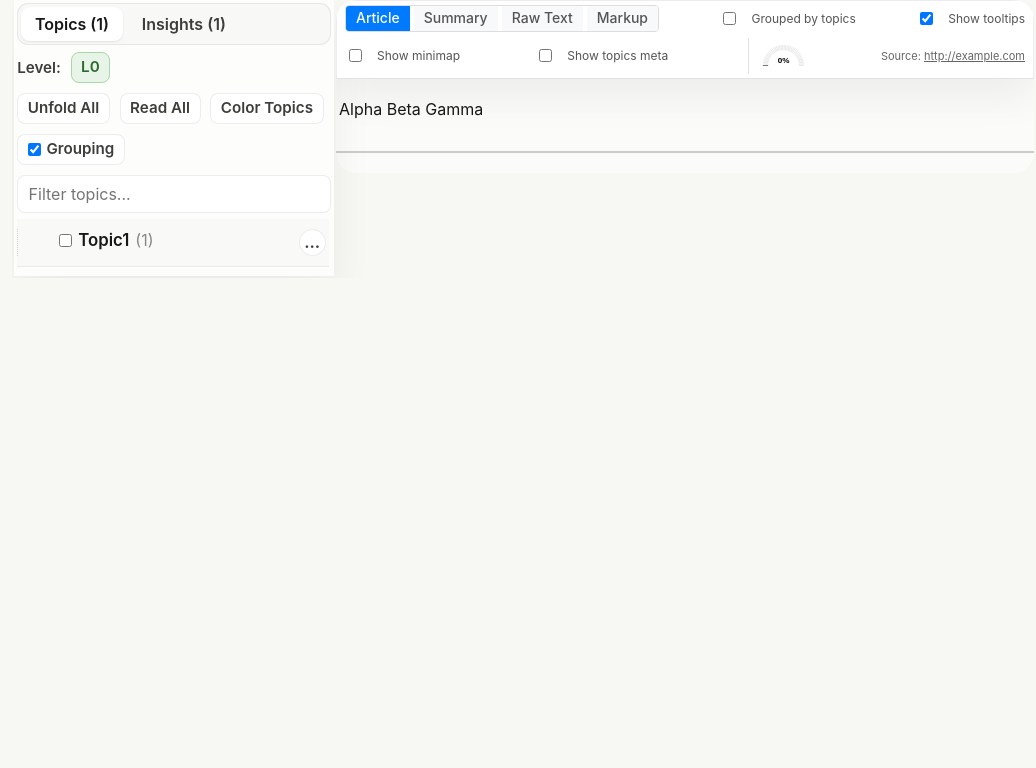
Test case: TextPage raw text navigation › renders and hides the minimap based on the article header toggle and grouped mode
Expected: the text "Source:" is shown, left=881, top=49, right=921, bottom=63
Click the checkbox labelled "Show minimap" at [356, 56], box left=349, top=49, right=362, bottom=62
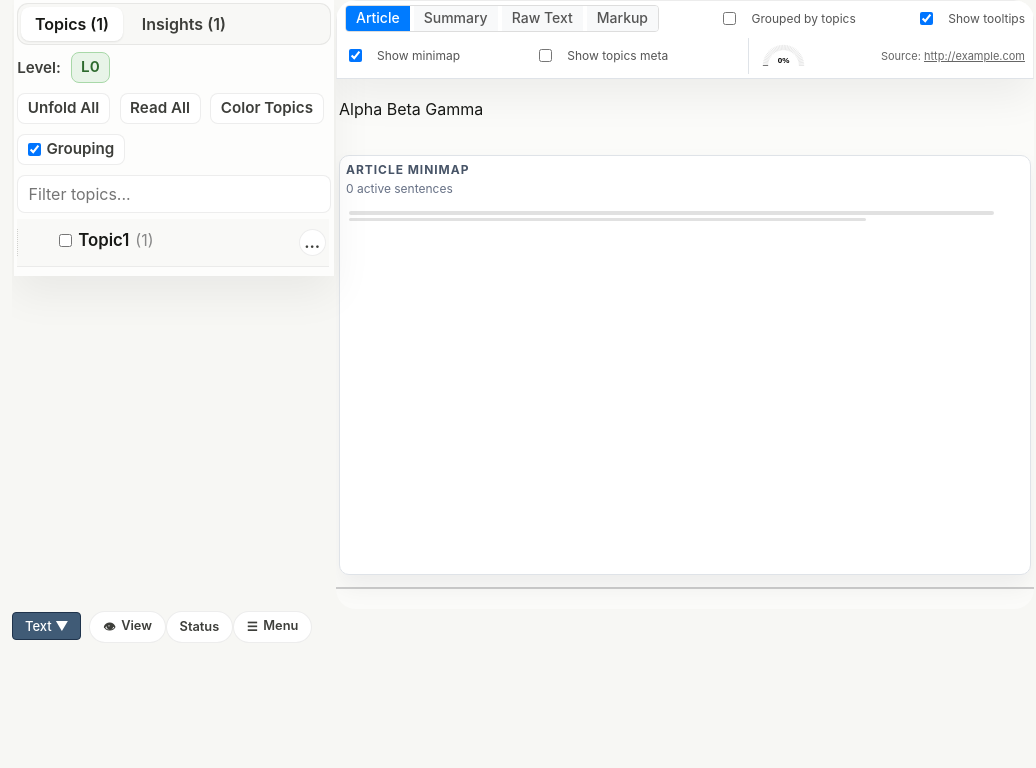
Expected: the element named "Article minimap panel" is shown, left=339, top=155, right=1031, bottom=575
Click the checkbox labelled "Grouped by topics" at [730, 18], box left=724, top=12, right=736, bottom=25
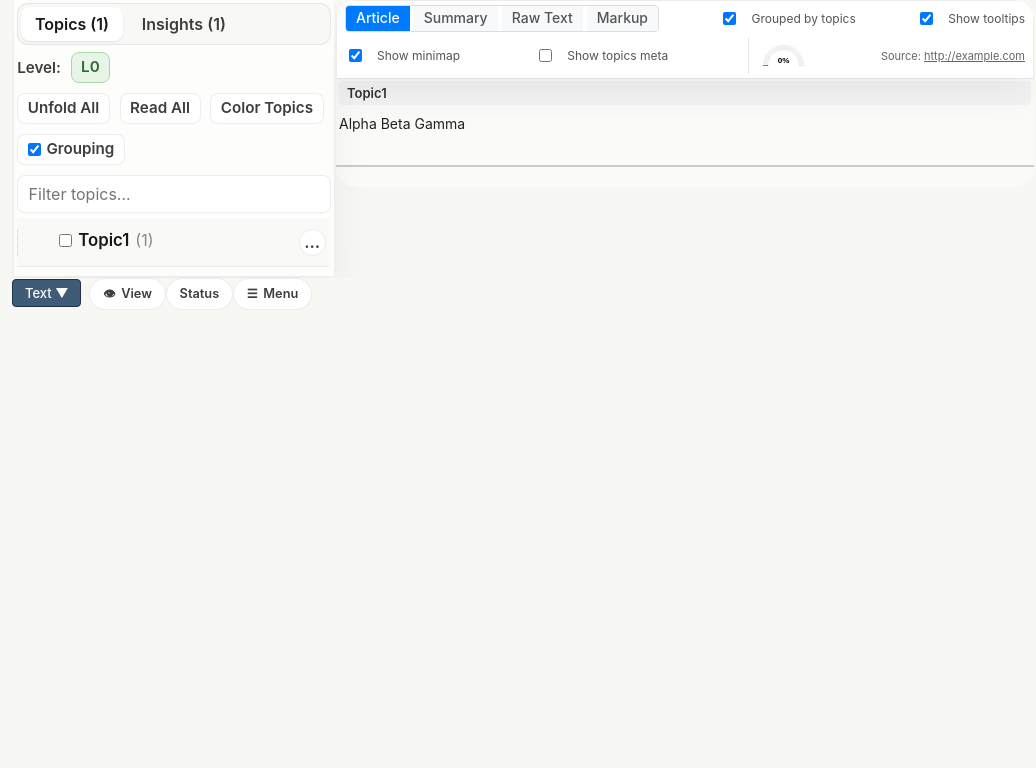
Expected: the checkbox labelled "Show minimap" is checked, left=349, top=49, right=362, bottom=62
Click the checkbox labelled "Grouped by topics" at [730, 18], box left=724, top=12, right=736, bottom=25
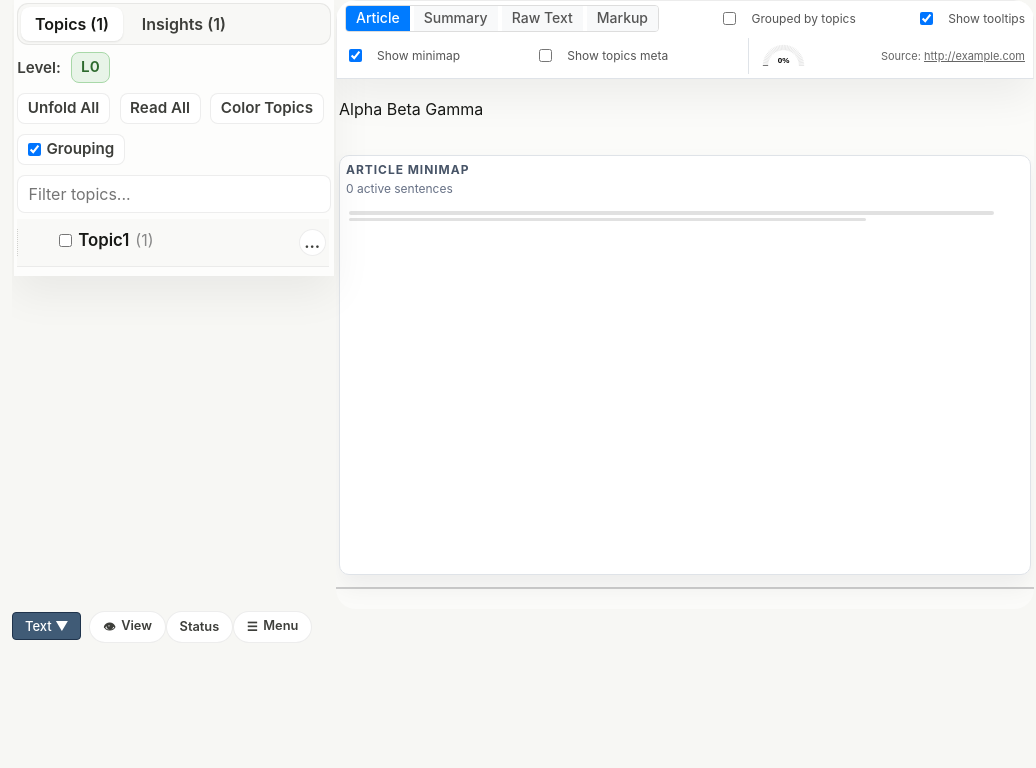
Expected: the element named "Article minimap panel" is shown, left=339, top=155, right=1031, bottom=575
